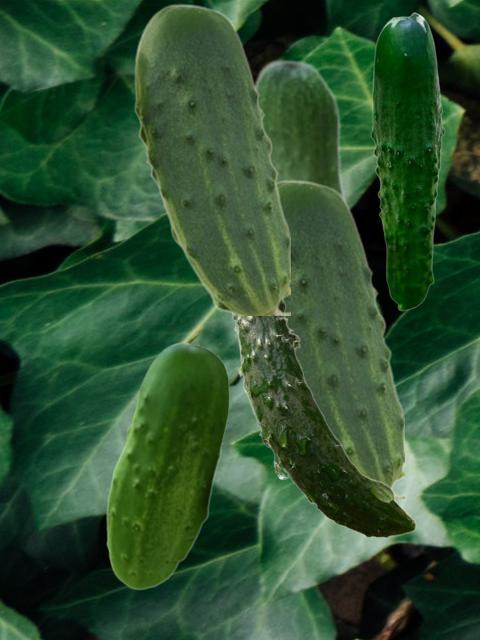cucumber: (134, 3, 289, 314), (231, 300, 415, 537), (278, 179, 403, 497), (106, 342, 228, 589), (370, 12, 444, 310), (255, 57, 350, 206)
